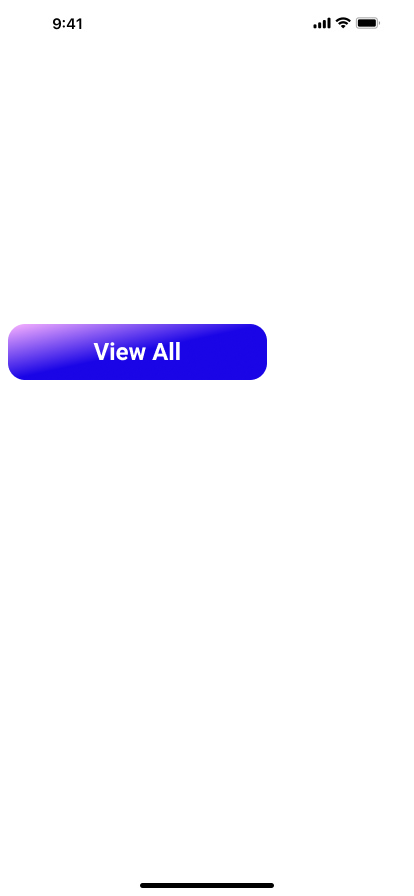Buttons: (8, 324, 267, 380)
Home Indicator: (0, 862, 414, 896)
Status Bar: (0, 0, 414, 44)
